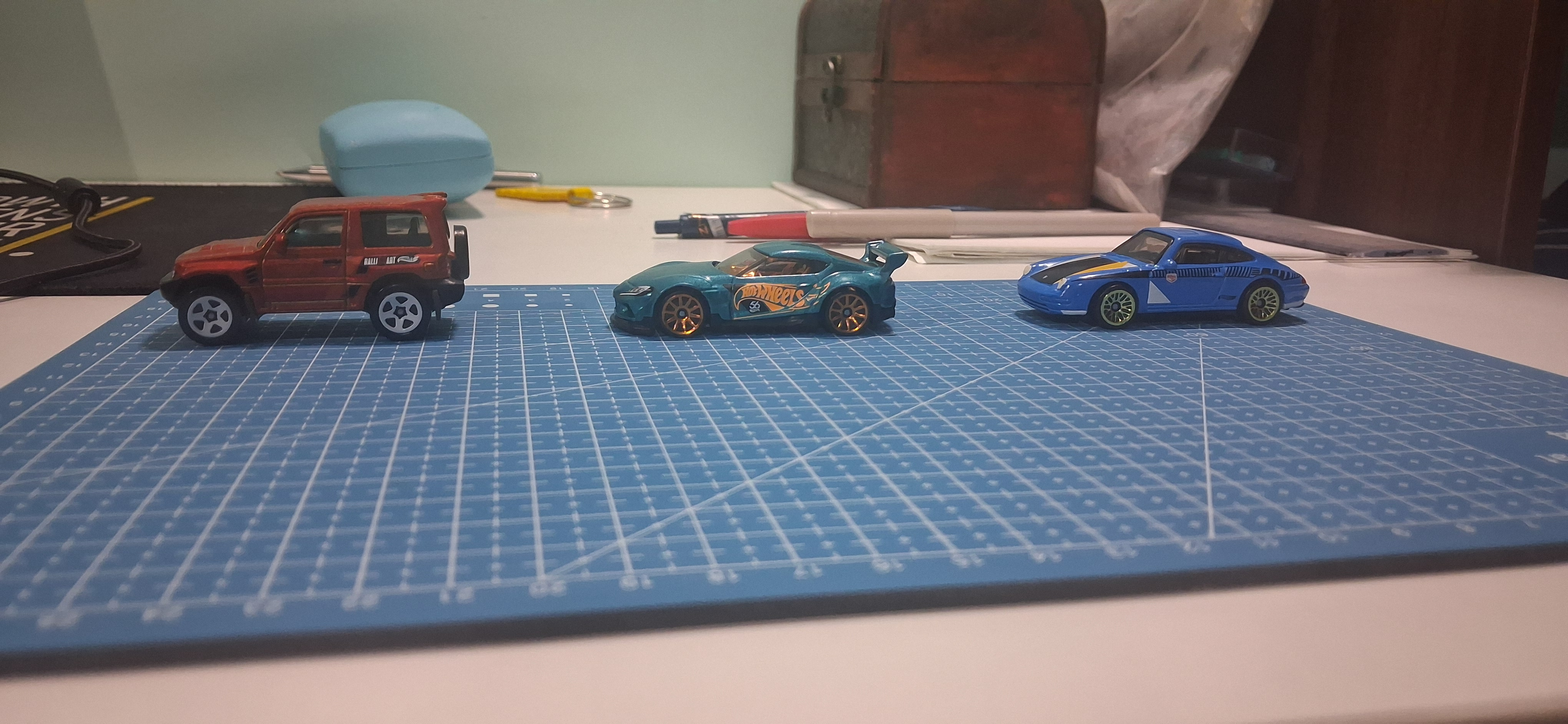Mitsubishi_Pajero_Evolution: (144, 180, 483, 370)
Porsche_Carrera: (1009, 198, 1336, 370)
Toyota_GR_Supra: (574, 221, 938, 361)
